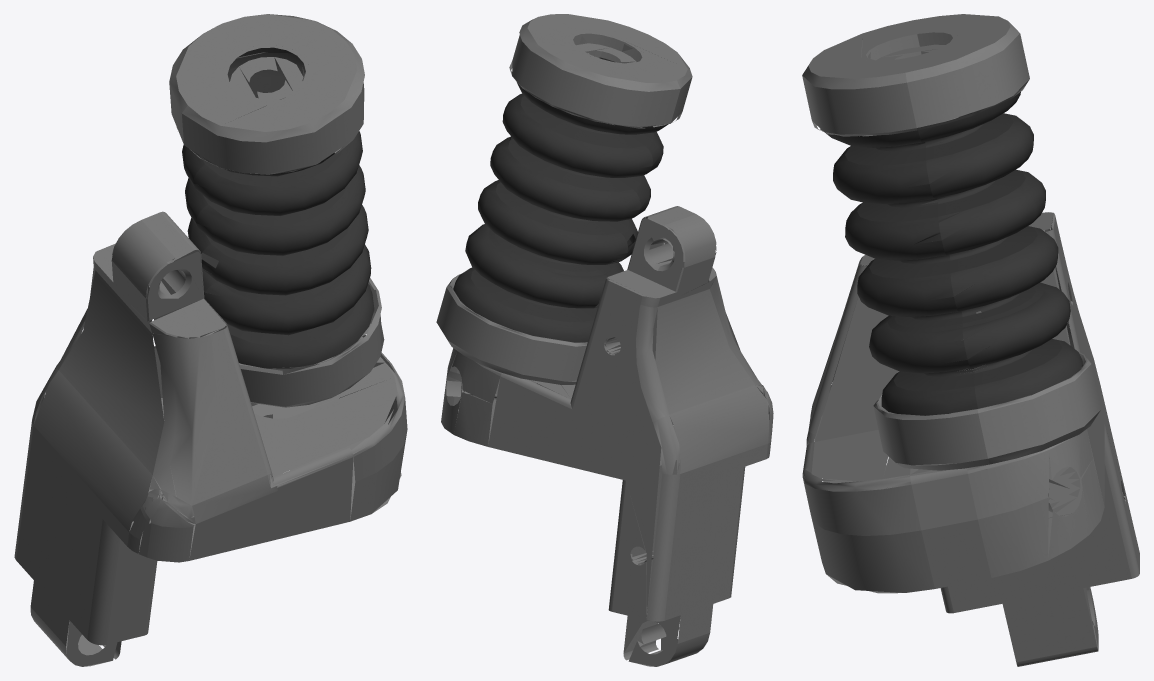
Rendered from handl_finger_thumb2_joint.obj.
3 views of the same model, side by side, from view 1: azimuth 30°, elevation 25°; view 2: azimuth 150°, elevation 25°; view 3: azimuth 270°, elevation 25° (orthographic). The views are drawn at different scales.
Size of the model in its own units: 0.0235 by 0.047 by 0.0204.
Materials: 1 (1 with a texture image).
